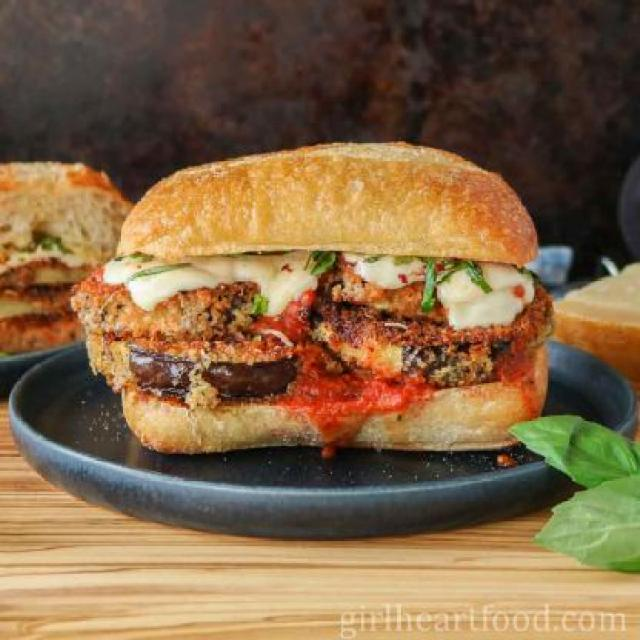eggplant: (93, 328, 532, 390)
hummus: (111, 243, 535, 326), (2, 242, 103, 270)
